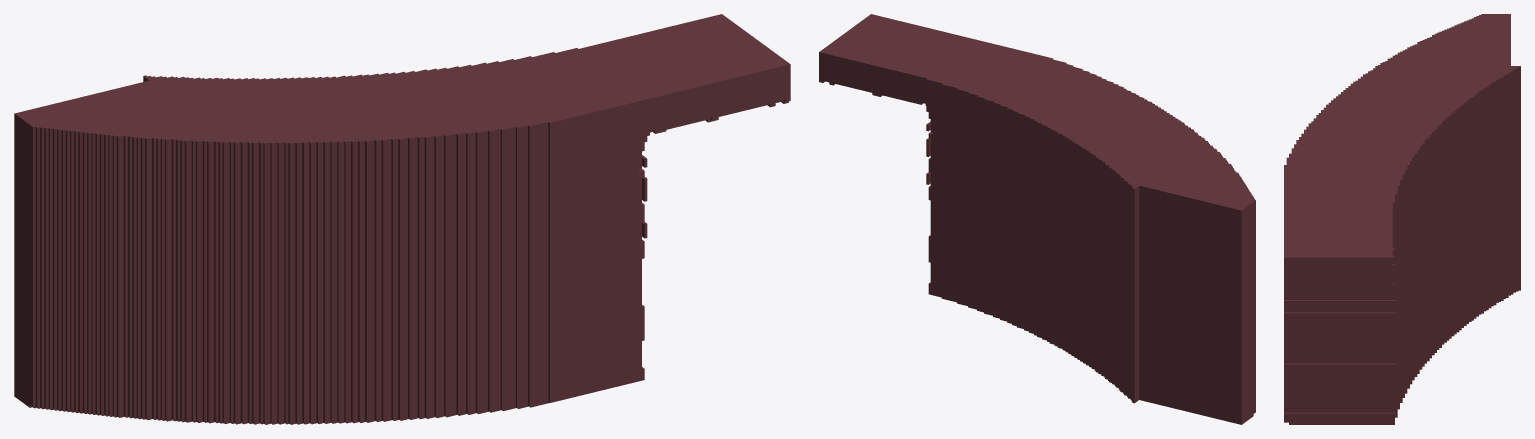
The model's file is base_with_flag_elements-3.obj.
3 views of the same model, side by side, from view 1: azimuth 30°, elevation 25°; view 2: azimuth 150°, elevation 25°; view 3: azimuth 270°, elevation 25° (orthographic). The views are drawn at different scales.
Size of the model in its own units: 23.4 by 10 by 9.6.
1 material, 1 textured.
